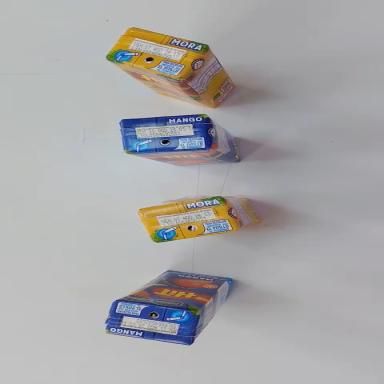HIT-MANGO: (104, 265, 233, 349), (120, 112, 241, 169)
HIT-MORA: (100, 18, 243, 115), (138, 189, 261, 245)
cara_F: (101, 58, 220, 111), (114, 264, 229, 316), (126, 146, 241, 169)
